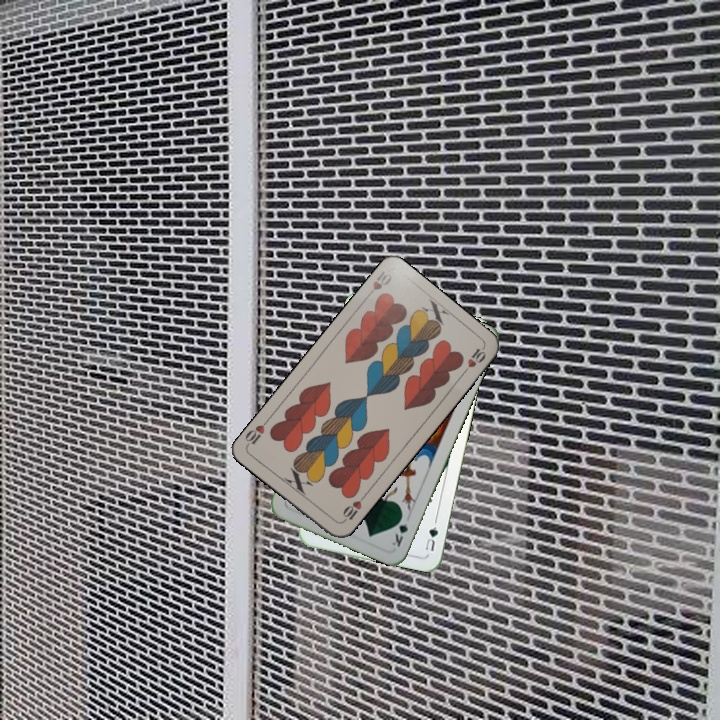GK: (388, 510, 411, 550)
GU: (421, 522, 441, 554)
H10: (361, 267, 395, 301), (338, 491, 368, 526)
